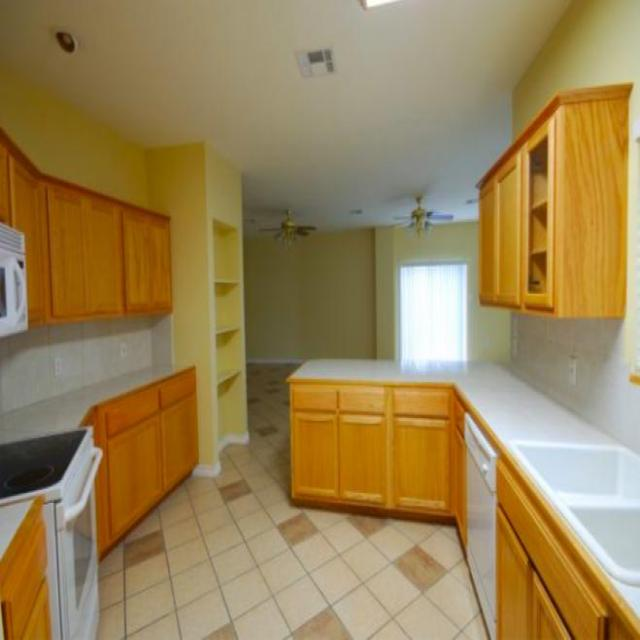dishwasher: (464, 411, 496, 638)
